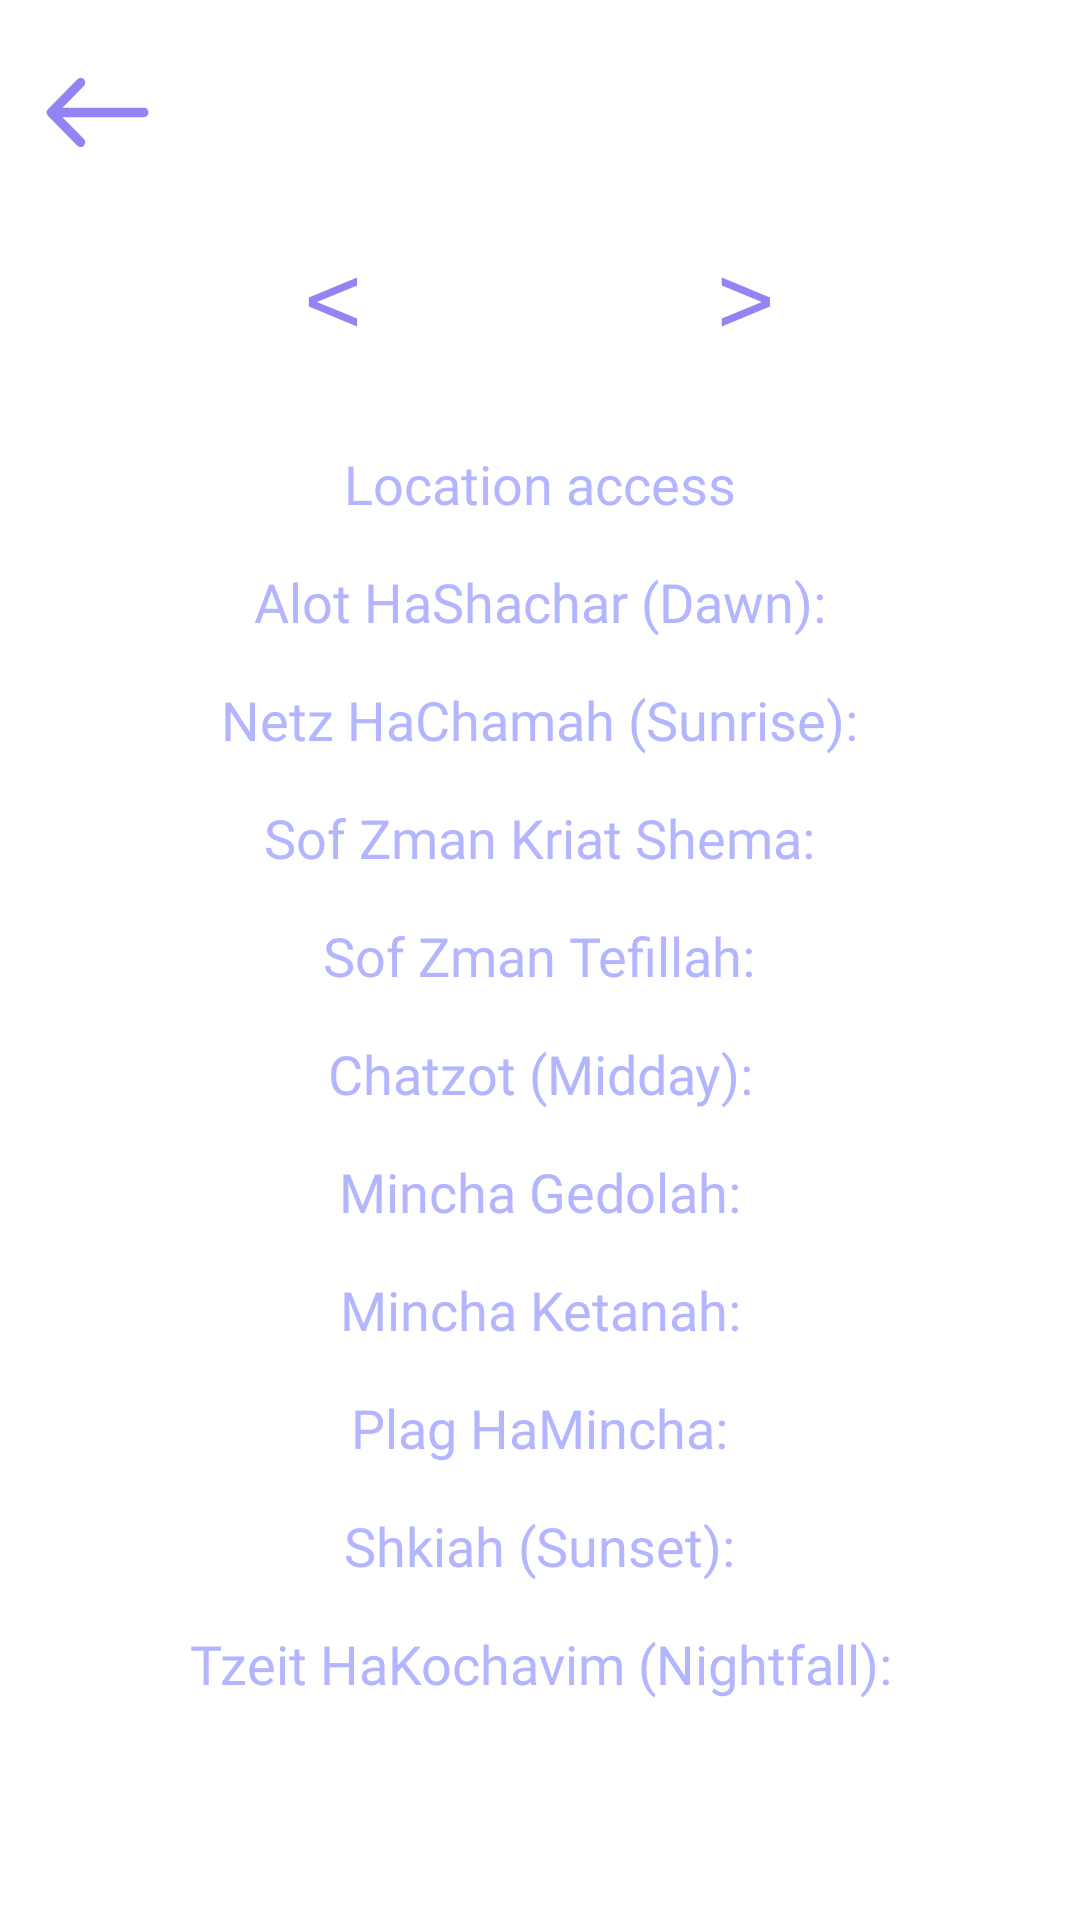

Icons on this 1080px x 1920px Android screen, each with the point to tap as [x,y]:
back arrow: [97,112]
day switcher back: [333,302]
